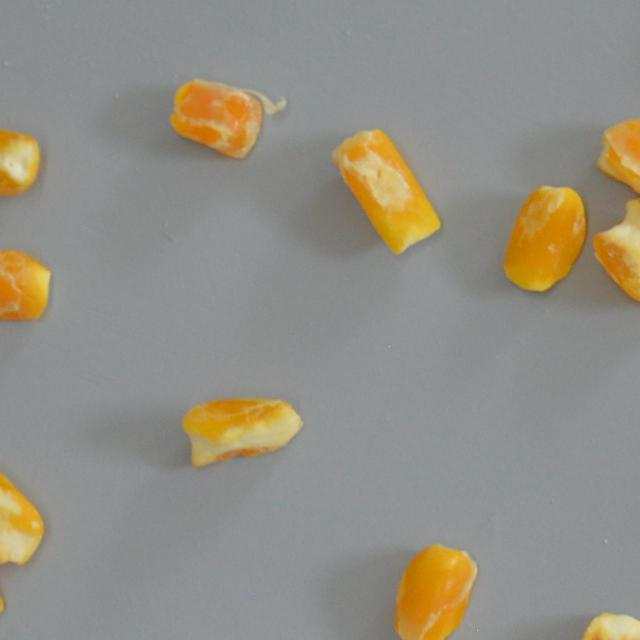pelicula: (329, 126, 444, 256), (500, 182, 588, 296), (166, 76, 288, 158), (180, 398, 306, 472), (391, 542, 476, 640), (591, 197, 640, 304), (0, 465, 44, 566), (596, 116, 640, 215), (0, 249, 54, 324), (0, 122, 40, 194), (574, 610, 640, 640)
